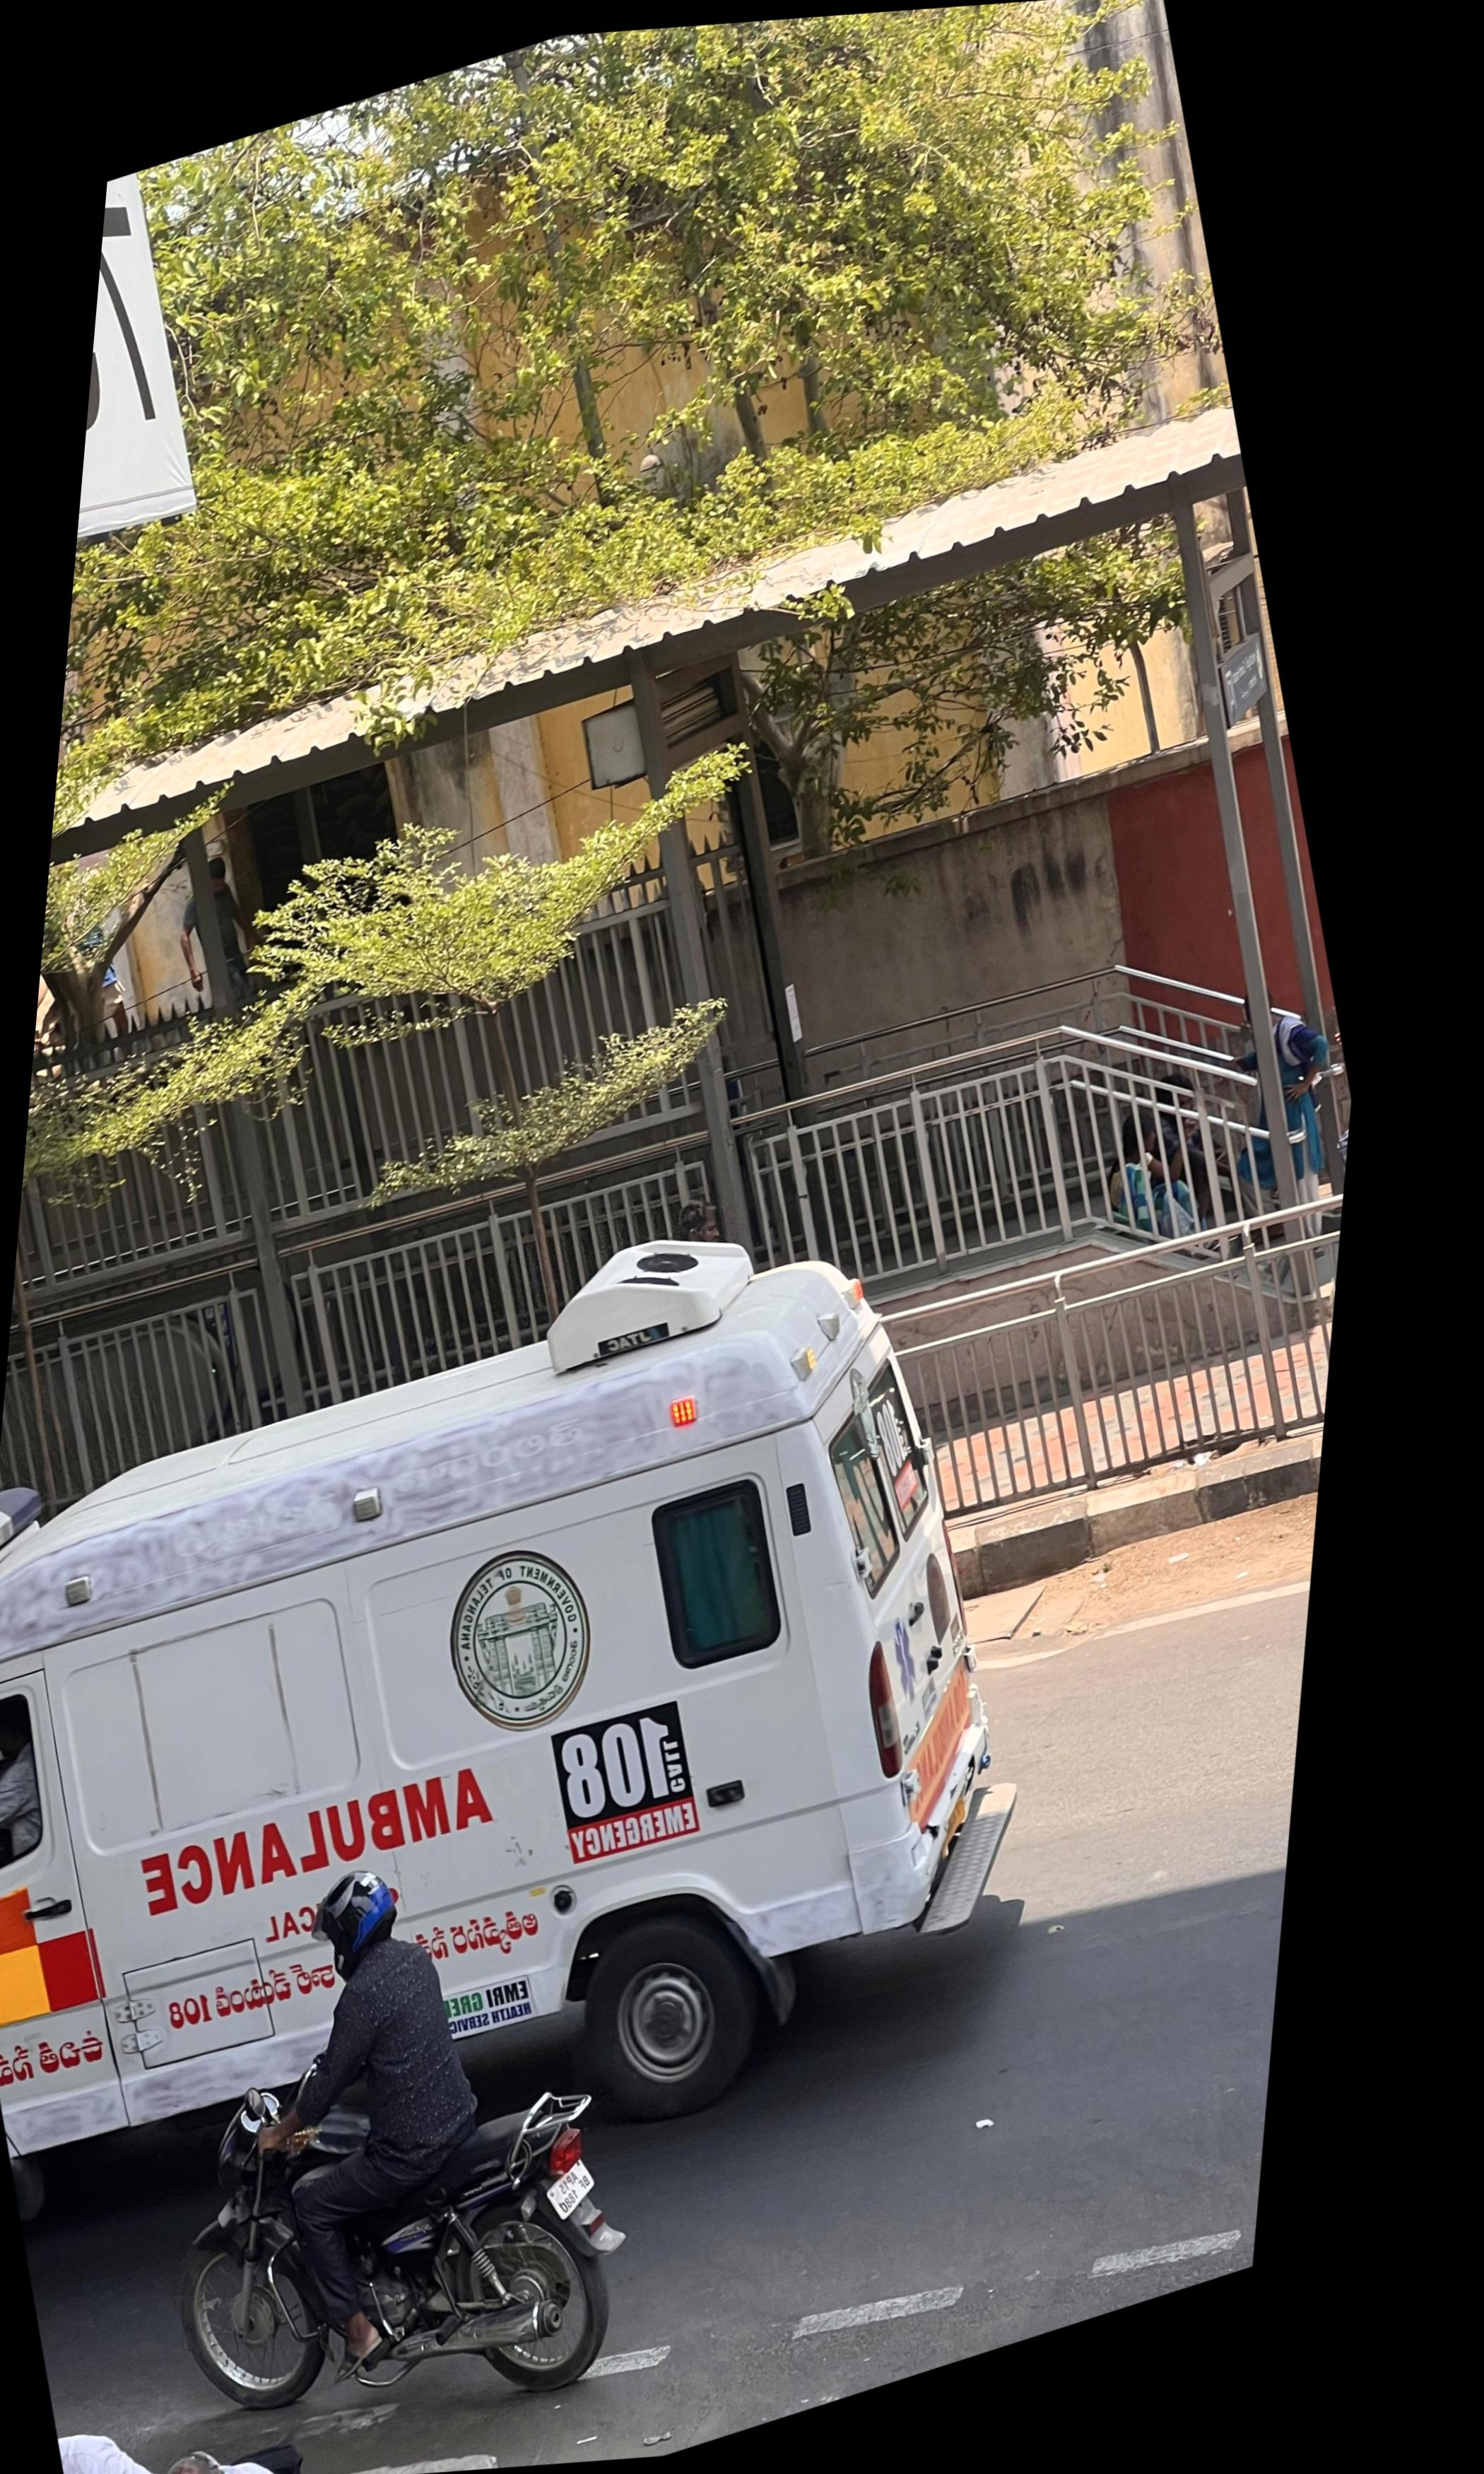ambulance: (0, 1241, 1018, 2165)
